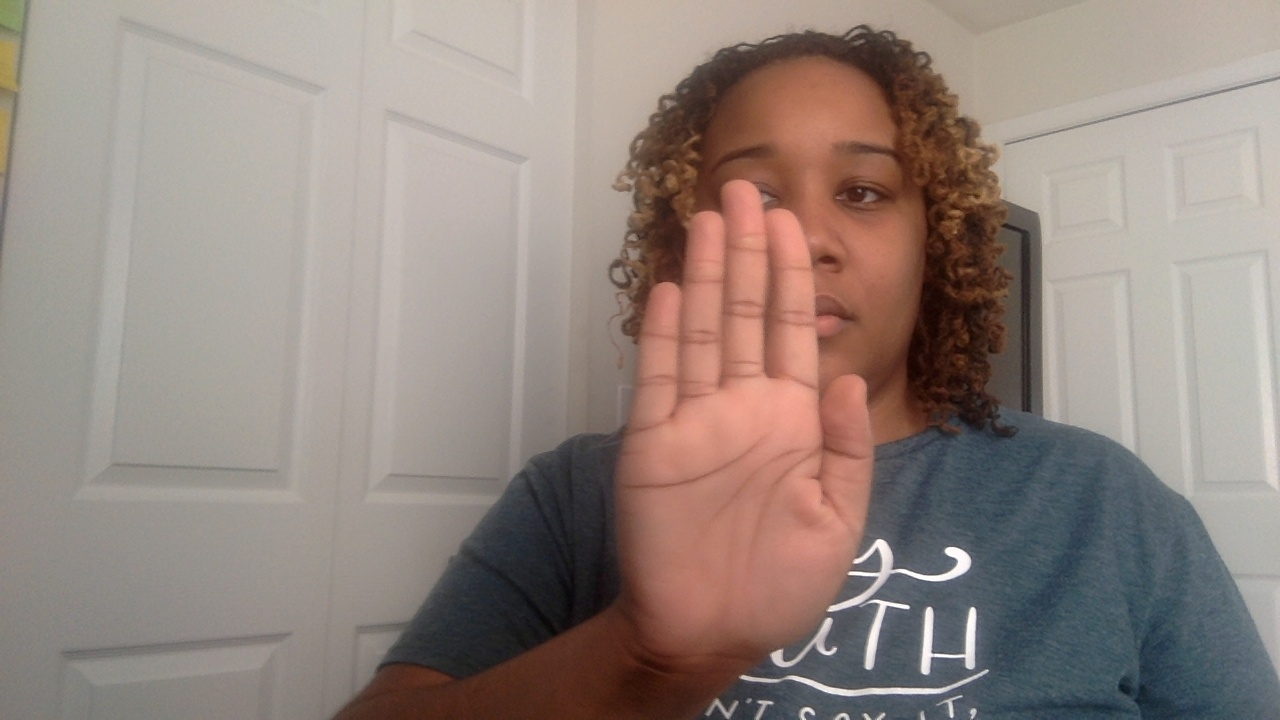hello: (552, 23, 997, 677)
